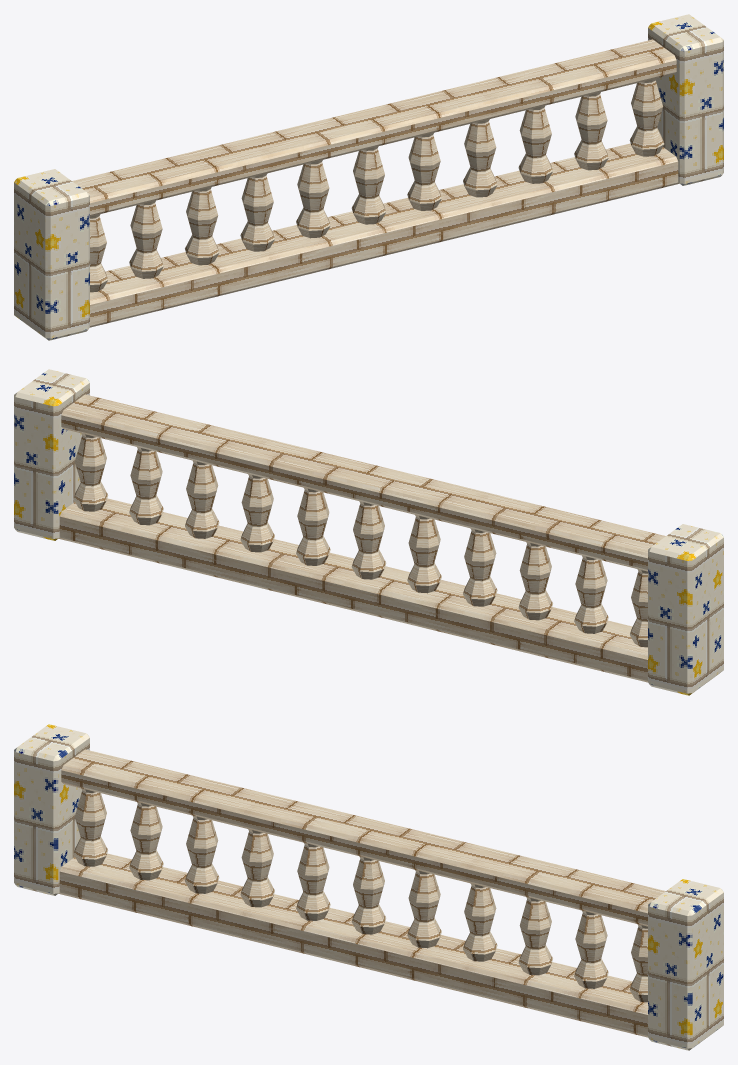
Rendered from tower_rail.glb.
3 views of the same model, one above another, from view 1: azimuth 30°, elevation 25°; view 2: azimuth 150°, elevation 25°; view 3: azimuth 330°, elevation 25° (orthographic).
Parts seen in each view (by area): view 1: Rail; view 2: Rail; view 3: Rail.
Boxes of the visible parts, left/top/right/bottom form: Rail: left=14, top=14, right=723, bottom=340; Rail: left=14, top=369, right=723, bottom=695; Rail: left=14, top=724, right=723, bottom=1050.
Size of the model in its own units: 6.1 by 1.2 by 0.55.
2 materials, 2 textured.
